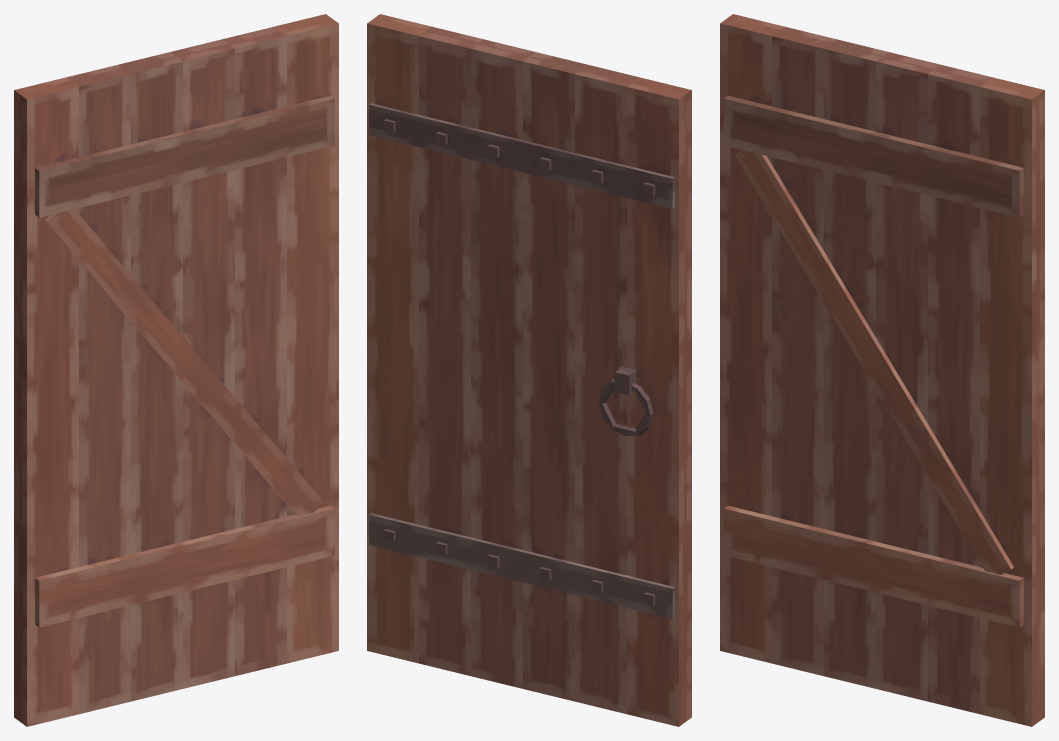
Rendered from door.bundle.fbx.
3 views of the same model, side by side, from view 1: azimuth 30°, elevation 25°; view 2: azimuth 150°, elevation 25°; view 3: azimuth 330°, elevation 25° (orthographic).
Parts seen in each view (by area): view 1: door, door_low, door_s01, door_s02, door_s04, door_s00, door_s05, door_s03; view 2: door, door_low, door_s02, door_s04, door_s03, door_s05, door_s01, door_s00; view 3: door, door_low, door_s01, door_s04, door_s02, door_s00, door_s05, door_s03.
Boxes of the visible parts, x1=… form: door: x1=15, y1=16, x2=335, y2=722; door_low: x1=14, y1=14, x2=338, y2=726; door_s01: x1=88, y1=337, x2=335, y2=581; door_s02: x1=115, y1=174, x2=332, y2=411; door_s04: x1=15, y1=311, x2=159, y2=621; door_s00: x1=15, y1=563, x2=335, y2=722; door_s05: x1=15, y1=62, x2=204, y2=317; door_s03: x1=135, y1=27, x2=335, y2=190; door: x1=369, y1=16, x2=690, y2=723; door_low: x1=367, y1=14, x2=691, y2=726; door_s02: x1=370, y1=171, x2=591, y2=413; door_s04: x1=563, y1=308, x2=690, y2=625; door_s03: x1=369, y1=27, x2=568, y2=192; door_s05: x1=501, y1=64, x2=690, y2=313; door_s01: x1=369, y1=341, x2=615, y2=577; door_s00: x1=370, y1=564, x2=689, y2=721; door: x1=723, y1=16, x2=1043, y2=722; door_low: x1=720, y1=14, x2=1044, y2=726; door_s01: x1=776, y1=398, x2=1043, y2=637; door_s04: x1=723, y1=246, x2=851, y2=548; door_s02: x1=808, y1=196, x2=1043, y2=404; door_s00: x1=723, y1=548, x2=1040, y2=720; door_s05: x1=723, y1=28, x2=896, y2=283; door_s03: x1=843, y1=44, x2=1043, y2=267.
Bounding box in the file's own units: 3.9 × 7.5 × 0.53.
Materials: 1 (1 with a texture image).
